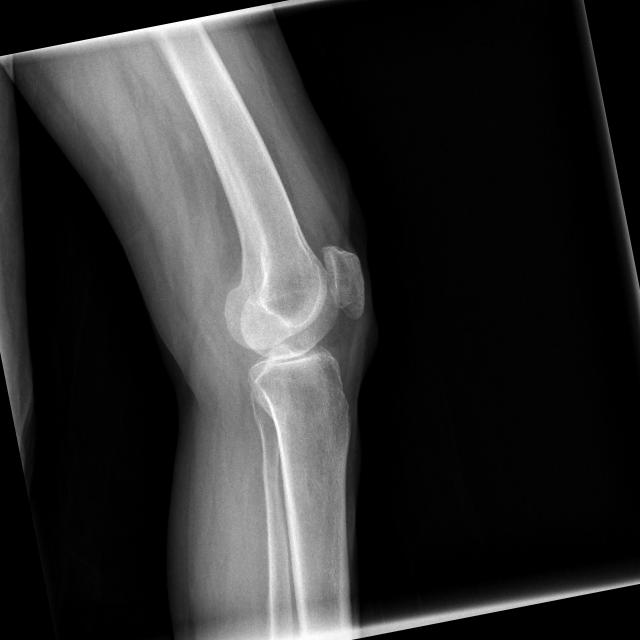Knee: (210, 235, 392, 412)
